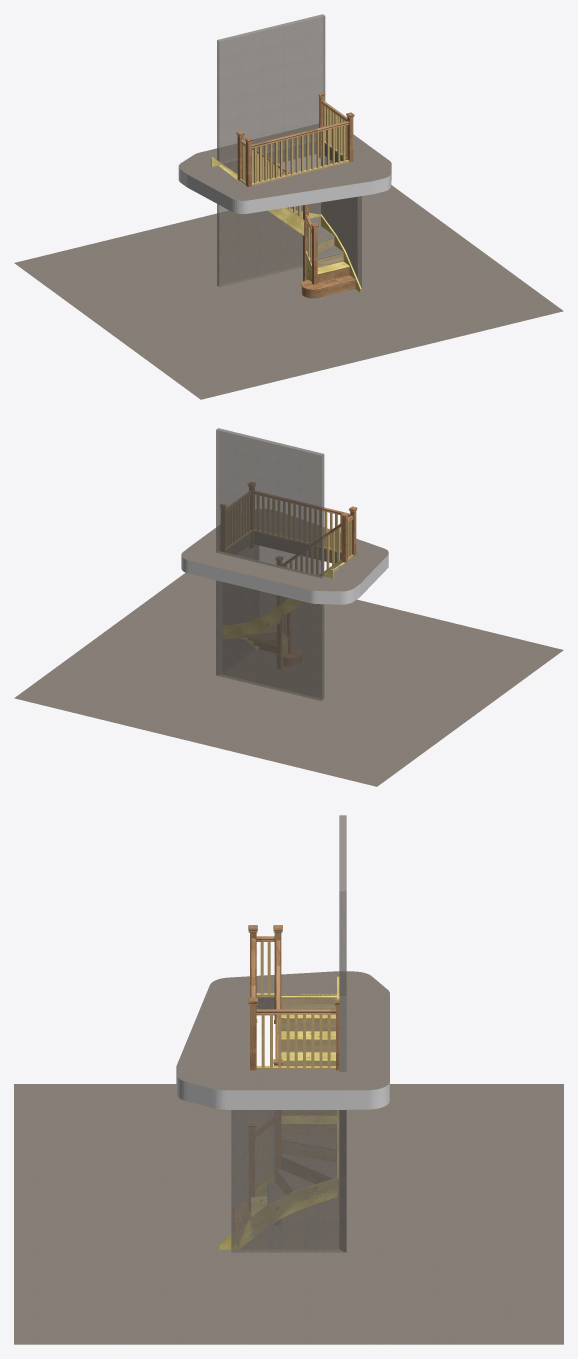
3 renders of one model, top to bottom at view 1: azimuth 30°, elevation 25°; view 2: azimuth 150°, elevation 25°; view 3: azimuth 270°, elevation 25°, orthographic. The views are drawn at different scales.
Parts seen in each view (by area): view 1: _x0023_OBJECT3Dcon_CarpetBrown.jpg1111, _x0023_BEGIN_WALLcon_MDF.jpg1110.3, _x0023_BALUSTERcon_Pine500.jpg1111, _x0023_OBJECT3D0.90.90.91, _x0023_POSTcon_Oak1800.jpg1111, _x0023_STRINGcon_fura.jpg1111 (×2), _x0023_BEGIN_OPENINGcon_MDF.jpg1111, _x0023_HANDRAILcon_Oak1800.jpg1111, _x0023_RISERcon_Oak1800.jpg1111, _x0023_TREADcon_MDF.jpg1111; view 2: _x0023_OBJECT3Dcon_CarpetBrown.jpg1111, _x0023_BEGIN_WALLcon_MDF.jpg1110.3, _x0023_BALUSTERcon_Pine500.jpg1111, _x0023_OBJECT3D0.90.90.91, _x0023_STRINGcon_fura.jpg1111, _x0023_POSTcon_Oak1800.jpg1111, _x0023_BEGIN_OPENINGcon_MDF.jpg1111, _x0023_HANDRAILcon_Oak1800.jpg1111; view 3: _x0023_OBJECT3Dcon_CarpetBrown.jpg1111, _x0023_BEGIN_WALLcon_MDF.jpg1110.3, _x0023_RISERcon_Birch1200.jpg1111 (×2), _x0023_OBJECT3D0.90.90.91, _x0023_STRINGcon_fura.jpg1111, _x0023_BALUSTERcon_Pine500.jpg1111, _x0023_TREADcon_fura.jpg1111, _x0023_POSTcon_Oak1800.jpg1111, _x0023_TREADcon_MDF.jpg1111, _x0023_HANDRAILcon_Oak1800.jpg1111.
Boxes of the visible parts, x1=… form: _x0023_OBJECT3Dcon_CarpetBrown.jpg1111: x1=14, y1=124, x2=563, y2=399; _x0023_BEGIN_WALLcon_MDF.jpg1110.3: x1=217, y1=14, x2=361, y2=287; _x0023_BALUSTERcon_Pine500.jpg1111: x1=242, y1=105, x2=347, y2=263; _x0023_OBJECT3D0.90.90.91: x1=178, y1=167, x2=391, y2=213; _x0023_POSTcon_Oak1800.jpg1111: x1=236, y1=131, x2=319, y2=284; _x0023_STRINGcon_fura.jpg1111 (×2): x1=211, y1=157, x2=361, y2=292; _x0023_BEGIN_OPENINGcon_MDF.jpg1111: x1=223, y1=141, x2=346, y2=173; _x0023_HANDRAILcon_Oak1800.jpg1111: x1=252, y1=121, x2=349, y2=232; _x0023_RISERcon_Oak1800.jpg1111: x1=301, y1=280, x2=355, y2=298; _x0023_TREADcon_MDF.jpg1111: x1=295, y1=212, x2=343, y2=259; _x0023_OBJECT3Dcon_CarpetBrown.jpg1111: x1=14, y1=509, x2=563, y2=786; _x0023_BEGIN_WALLcon_MDF.jpg1110.3: x1=216, y1=428, x2=324, y2=701; _x0023_BALUSTERcon_Pine500.jpg1111: x1=226, y1=495, x2=351, y2=634; _x0023_OBJECT3D0.90.90.91: x1=181, y1=554, x2=388, y2=604; _x0023_STRINGcon_fura.jpg1111: x1=222, y1=561, x2=341, y2=638; _x0023_POSTcon_Oak1800.jpg1111: x1=275, y1=506, x2=357, y2=668; _x0023_BEGIN_OPENINGcon_MDF.jpg1111: x1=226, y1=532, x2=341, y2=563; _x0023_HANDRAILcon_Oak1800.jpg1111: x1=253, y1=491, x2=350, y2=599; _x0023_OBJECT3Dcon_CarpetBrown.jpg1111: x1=14, y1=971, x2=563, y2=1344; _x0023_BEGIN_WALLcon_MDF.jpg1110.3: x1=231, y1=815, x2=346, y2=1252; _x0023_RISERcon_Birch1200.jpg1111 (×2): x1=277, y1=998, x2=336, y2=1194; _x0023_OBJECT3D0.90.90.91: x1=176, y1=1075, x2=389, y2=1109; _x0023_STRINGcon_fura.jpg1111: x1=219, y1=1176, x2=338, y2=1249; _x0023_BALUSTERcon_Pine500.jpg1111: x1=260, y1=942, x2=330, y2=1182; _x0023_TREADcon_fura.jpg1111: x1=251, y1=994, x2=336, y2=1217; _x0023_POSTcon_Oak1800.jpg1111: x1=247, y1=925, x2=282, y2=1224; _x0023_TREADcon_MDF.jpg1111: x1=268, y1=1137, x2=336, y2=1203; _x0023_HANDRAILcon_Oak1800.jpg1111: x1=251, y1=938, x2=280, y2=1138.
Bounding box in the file's own units: 8.51 × 5.5 × 7.59.
15 materials, 13 textured.
